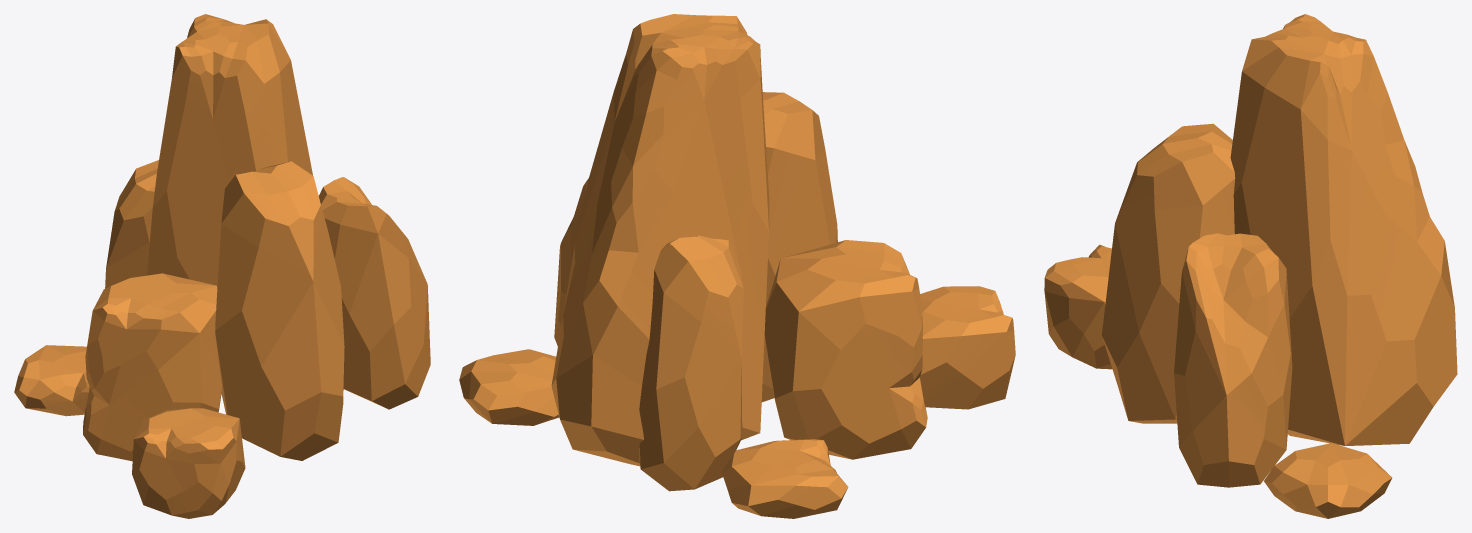
The model's file is SM_RockFormation_A.fbx.
The picture shows the model from 3 angles, left to right: view 1: azimuth 30°, elevation 25°; view 2: azimuth 150°, elevation 25°; view 3: azimuth 270°, elevation 25°; orthographic projection. The views are drawn at different scales.
Visible parts, largest first — view 1: SM_RockFormation_A; view 2: SM_RockFormation_A; view 3: SM_RockFormation_A.
Boxes of the visible parts, x1,y1,x2,y2 form: SM_RockFormation_A: (14, 14, 430, 518); SM_RockFormation_A: (459, 14, 1015, 518); SM_RockFormation_A: (1044, 14, 1457, 518).
Size of the model in its own units: 346 by 314 by 304.
